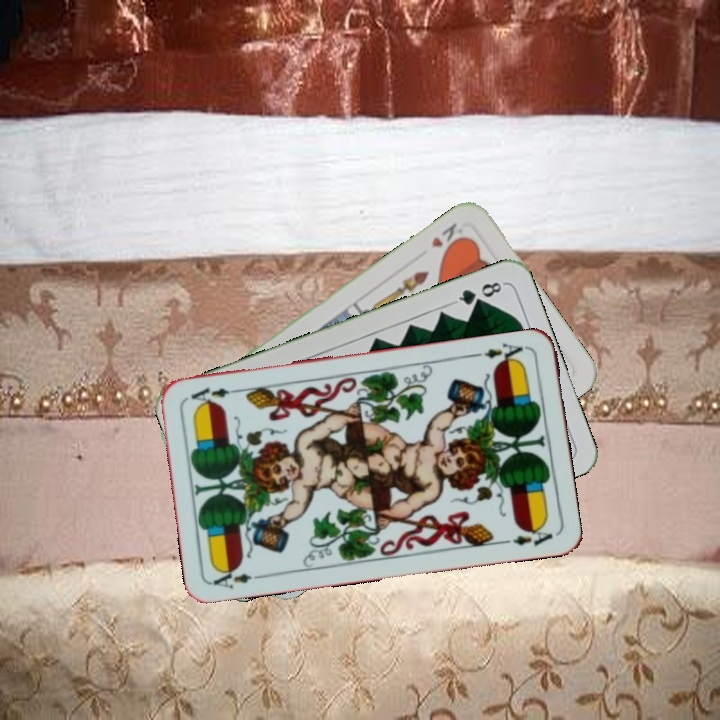EA: (480, 339, 530, 368), (209, 563, 254, 592)
G8: (450, 277, 507, 308)
HK: (426, 218, 468, 256)
